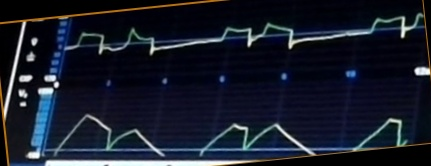Double_Triggering Flow: (69, 13, 425, 65)
Double_Triggering Volume: (55, 110, 407, 158)
